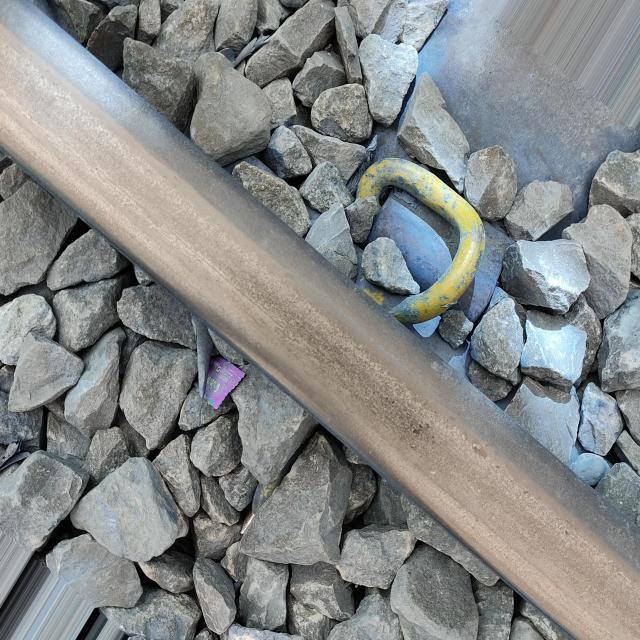broken_rail_medium: (412, 422, 434, 436), (474, 443, 490, 461)
